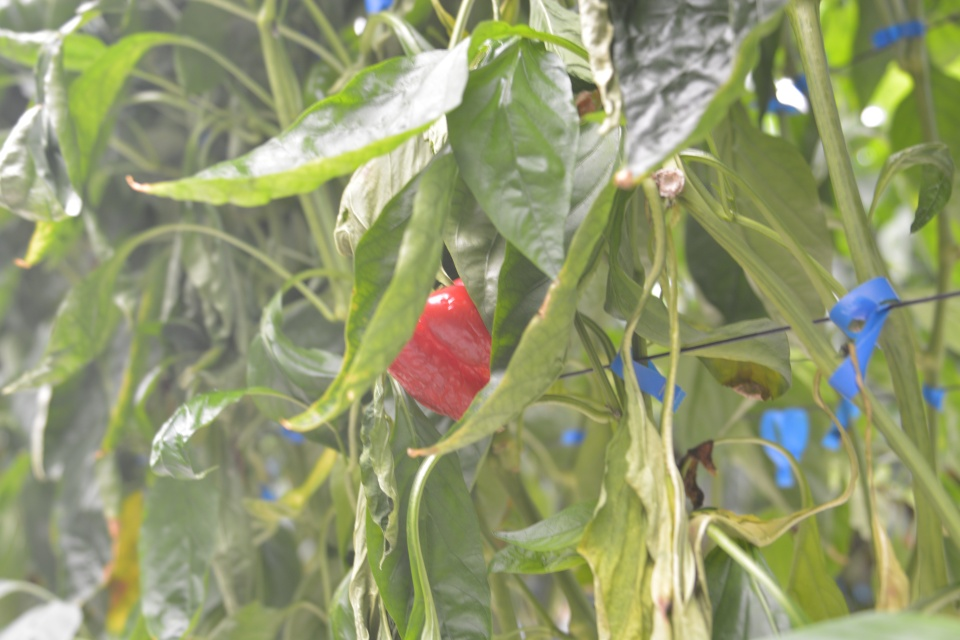fruit: (386, 274, 491, 419)
